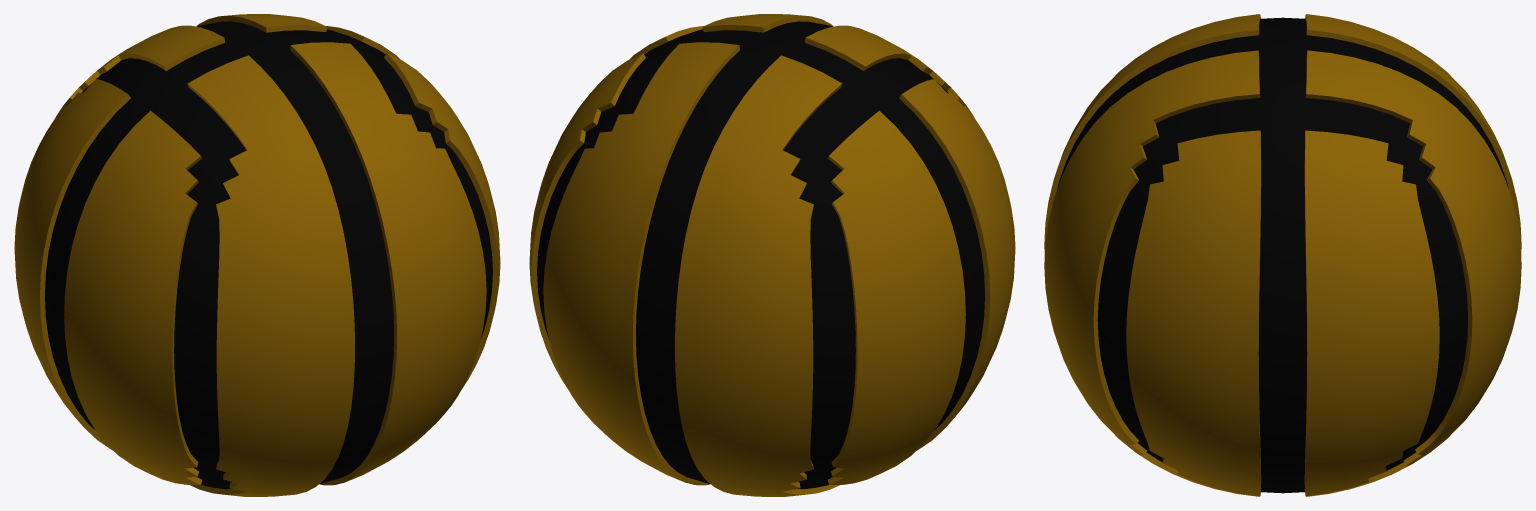
The model's file is BasketBall.fbx.
3 views of the same model, side by side, from view 1: azimuth 30°, elevation 25°; view 2: azimuth 150°, elevation 25°; view 3: azimuth 270°, elevation 25° (orthographic).
Parts seen in each view (by area): view 1: BasketBall; view 2: BasketBall; view 3: BasketBall.
Part boxes in pixels (<box>): BasketBall: <box>14,14,500,496</box>; BasketBall: <box>529,14,1015,496</box>; BasketBall: <box>1044,14,1521,496</box>.
Size of the model in its own units: 0.8383 by 0.8347 by 0.8383.
